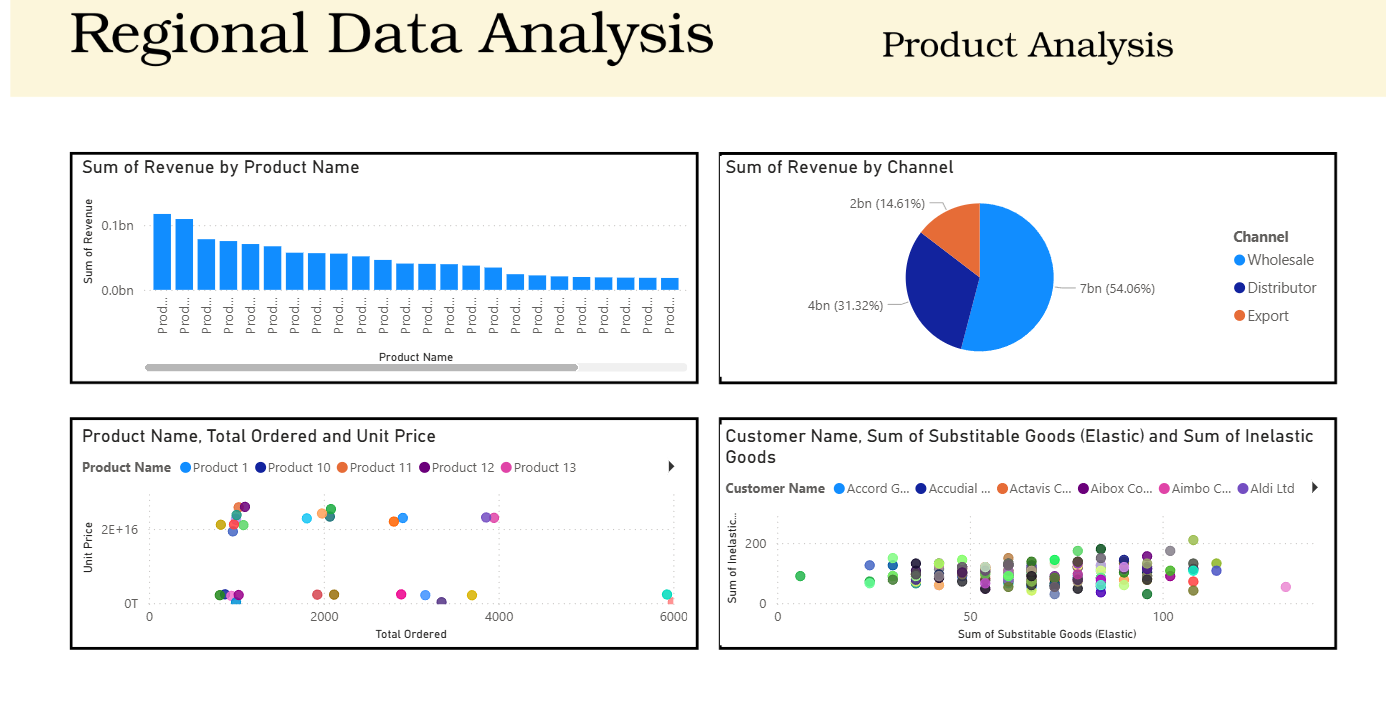

This screenshot's page, from the dashboard's own definition file:
{"tool":"powerbi","page":{"name":"Page 2","canvas":[1280,720],"ordinal":1},"visuals":[{"type":"image","box":[9.4,0,1269.9,720],"z":0},{"type":"clusteredColumnChart","fields":{"Category":["Sheet1.product_name"],"Y":["Sum(Sheet1.revenue)"]},"box":[75.8,192.6,563.7,202.1],"z":1000},{"type":"pieChart","fields":{"Category":["Product 2.channel"],"Y":["Sum(Product 2.revenue)"]},"box":[664.7,192.6,560.5,202.1],"z":2000},{"type":"scatterChart","fields":{"X":["Product 4.subs_sum"],"Y":["Product 4.inelastic_sum"],"Series":["Product 4.customer_name"]},"box":[664.7,437.4,560.5,202.1],"z":2001},{"type":"scatterChart","fields":{"Y":["Product 3 and 4.unit_price"],"X":["Product 3 and 4.total_order_items"],"Series":["Product 3 and 4.product_name"]},"box":[75.8,437.4,563.7,202.1],"z":2002}]}

Visuals, with their boxes on the page's 1280x720 design canvas (x1, y1, x2, y2). These are canvas units, not pixel positions in the 1386x717 screenshot, which may show the page scaled, cropped or inside an application window:
image: box(9, 0, 1279, 720)
clusteredColumnChart - Sheet1.product_name x Sum(Sheet1.revenue): box(76, 193, 640, 395)
pieChart - Product 2.channel x Sum(Product 2.revenue): box(665, 193, 1225, 395)
scatterChart - Product 4.subs_sum x Product 4.inelastic_sum: box(665, 437, 1225, 640)
scatterChart - Product 3 and 4.unit_price x Product 3 and 4.total_order_items: box(76, 437, 640, 640)
